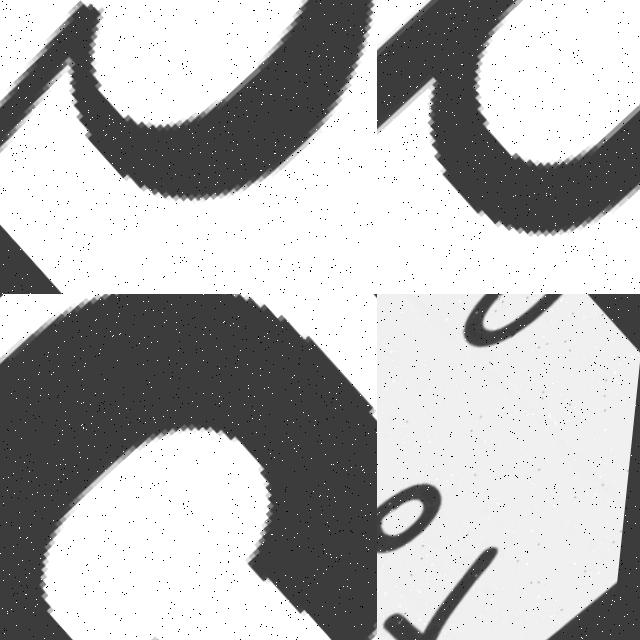0: (407, 294, 598, 416)
5: (0, 0, 377, 294)
6: (377, 442, 487, 640)
7: (377, 515, 556, 640)
9: (377, 294, 530, 355)
C: (0, 294, 377, 640)
H: (377, 0, 640, 294)
